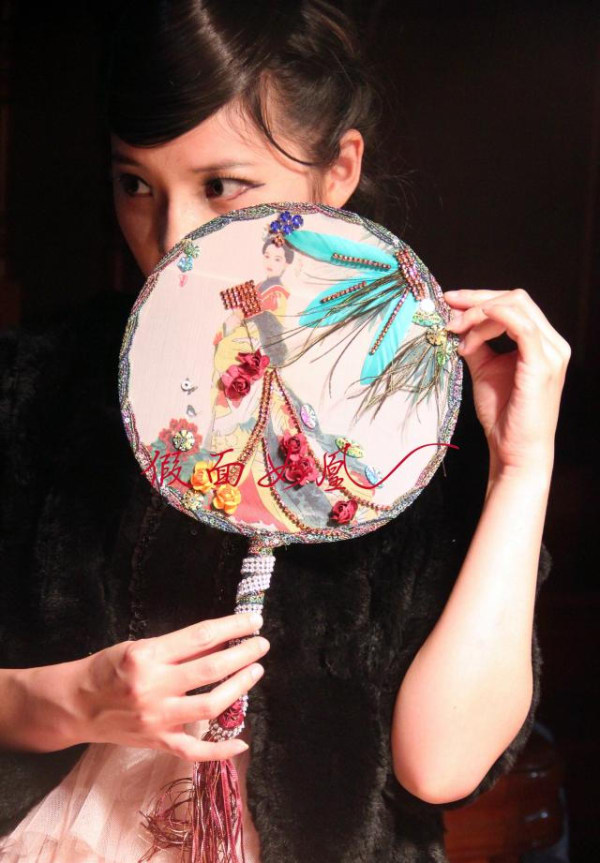face: (113, 86, 311, 329)
